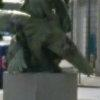Statue: (6, 2, 98, 78)
